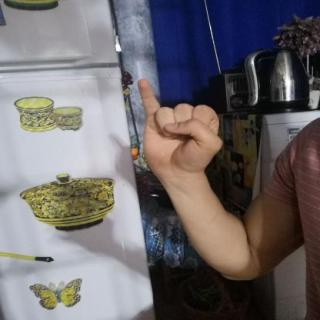MEEM: (122, 73, 236, 185)
